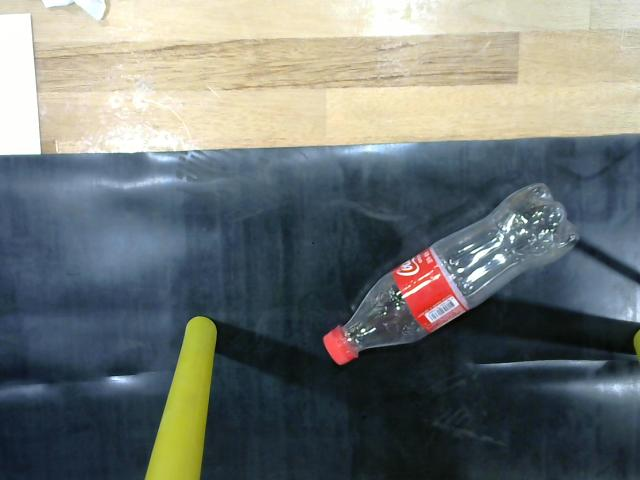bottle: (317, 173, 587, 374)
